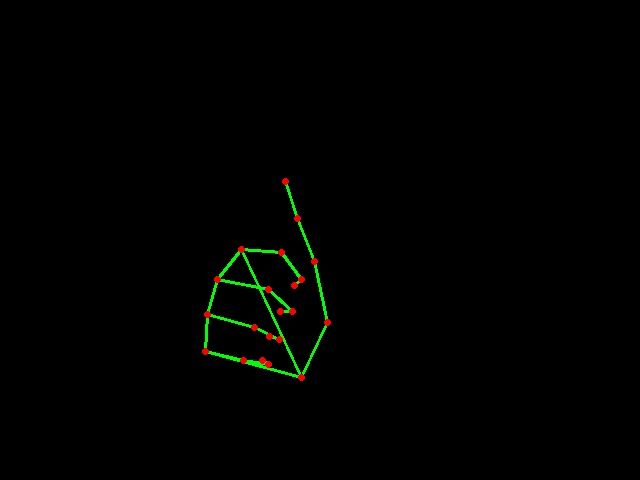fast: (199, 155, 340, 391)
